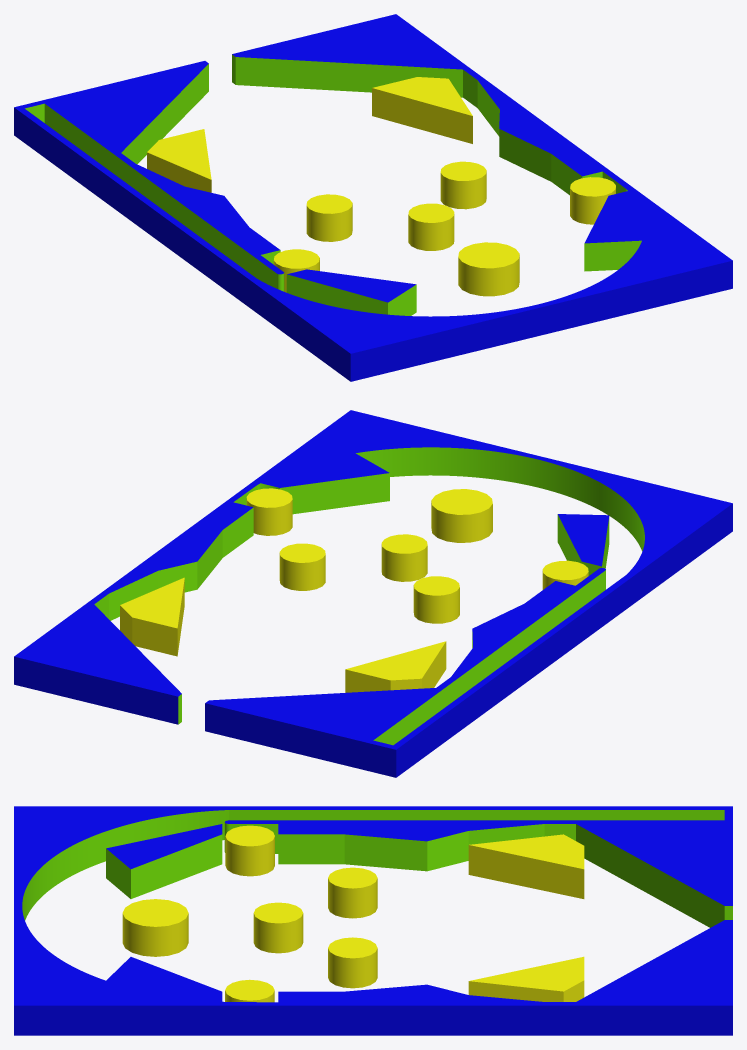
The model's file is board-v4.obj.
3 views of the same model, one above another, from view 1: azimuth 30°, elevation 25°; view 2: azimuth 150°, elevation 25°; view 3: azimuth 270°, elevation 25° (orthographic). The views are drawn at different scales.
Parts seen in each view (by area): view 1: SketchUp_ID3.007, SketchUp.001_ID13.004, SketchUp.002_ID23, SketchUp.006_ID57, SketchUp.004_ID41, SketchUp.003_ID33, SketchUp.007_ID65, SketchUp.008_ID73, SketchUp.009_ID81, SketchUp.005_ID49, SketchUp.010_ID89, SketchUp.011_ID97; view 2: SketchUp_ID3.007, SketchUp.001_ID13.004, SketchUp.002_ID23, SketchUp.004_ID41, SketchUp.006_ID57, SketchUp.007_ID65, SketchUp.009_ID81, SketchUp.008_ID73, SketchUp.010_ID89, SketchUp.005_ID49, SketchUp.011_ID97, SketchUp.003_ID33; view 3: SketchUp_ID3.007, SketchUp.001_ID13.004, SketchUp.004_ID41, SketchUp.002_ID23, SketchUp.003_ID33, SketchUp.006_ID57, SketchUp.007_ID65, SketchUp.011_ID97, SketchUp.008_ID73, SketchUp.009_ID81, SketchUp.005_ID49, SketchUp.010_ID89.
Part boxes in pixels (bbox=[...]): SketchUp_ID3.007: bbox=[14, 14, 732, 381]; SketchUp.001_ID13.004: bbox=[25, 54, 641, 291]; SketchUp.002_ID23: bbox=[372, 77, 472, 143]; SketchUp.006_ID57: bbox=[458, 242, 519, 296]; SketchUp.004_ID41: bbox=[147, 129, 211, 192]; SketchUp.003_ID33: bbox=[286, 274, 416, 315]; SketchUp.007_ID65: bbox=[408, 203, 454, 250]; SketchUp.008_ID73: bbox=[306, 194, 352, 241]; SketchUp.009_ID81: bbox=[440, 161, 486, 209]; SketchUp.005_ID49: bbox=[287, 269, 416, 302]; SketchUp.010_ID89: bbox=[570, 177, 615, 224]; SketchUp.011_ID97: bbox=[273, 249, 319, 292]; SketchUp_ID3.007: bbox=[14, 410, 732, 777]; SketchUp.001_ID13.004: bbox=[94, 447, 644, 745]; SketchUp.002_ID23: bbox=[120, 577, 184, 656]; SketchUp.004_ID41: bbox=[345, 641, 446, 692]; SketchUp.006_ID57: bbox=[431, 489, 492, 542]; SketchUp.007_ID65: bbox=[381, 534, 427, 581]; SketchUp.009_ID81: bbox=[279, 543, 325, 590]; SketchUp.008_ID73: bbox=[413, 576, 459, 623]; SketchUp.010_ID89: bbox=[246, 488, 292, 535]; SketchUp.005_ID49: bbox=[558, 514, 609, 566]; SketchUp.011_ID97: bbox=[542, 560, 588, 589]; SketchUp.003_ID33: bbox=[557, 514, 609, 575]; SketchUp_ID3.007: bbox=[14, 806, 732, 1035]; SketchUp.001_ID13.004: bbox=[22, 810, 732, 927]; SketchUp.004_ID41: bbox=[468, 834, 584, 898]; SketchUp.002_ID23: bbox=[468, 956, 584, 1001]; SketchUp.003_ID33: bbox=[106, 834, 222, 898]; SketchUp.006_ID57: bbox=[122, 899, 188, 956]; SketchUp.007_ID65: bbox=[253, 902, 303, 953]; SketchUp.011_ID97: bbox=[225, 825, 274, 876]; SketchUp.008_ID73: bbox=[328, 867, 377, 918]; SketchUp.009_ID81: bbox=[328, 937, 377, 988]; SketchUp.005_ID49: bbox=[106, 824, 222, 868]; SketchUp.010_ID89: bbox=[225, 979, 274, 1002].
Bounding box in the file's own units: 0.57 × 0.04 × 0.87.
